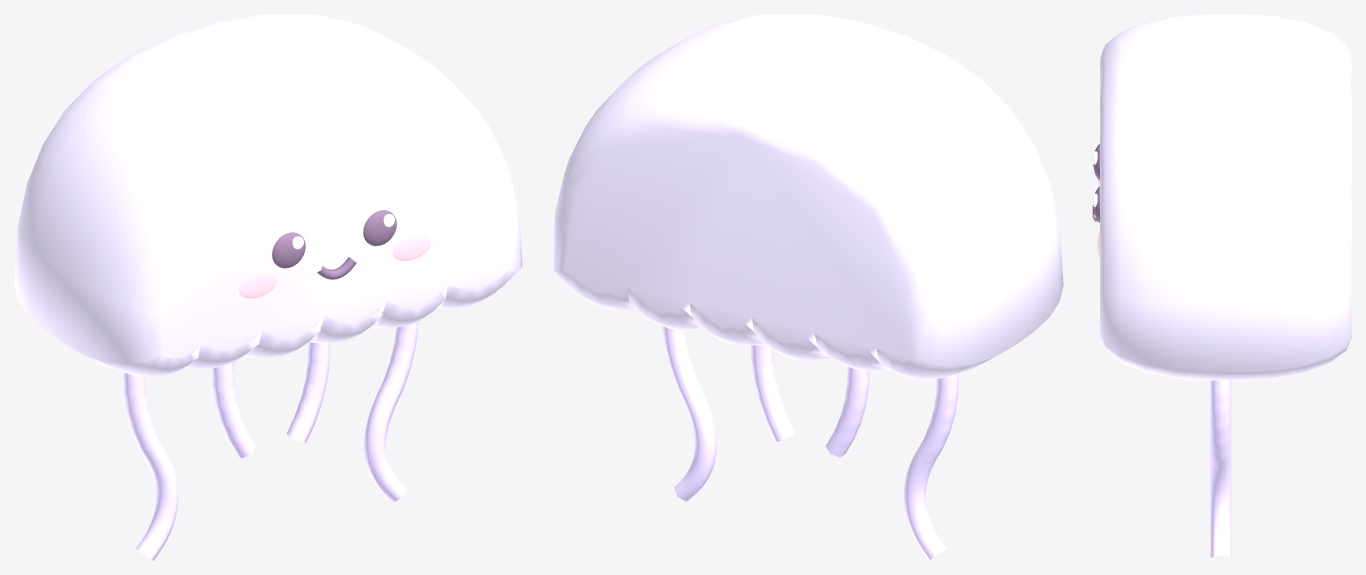
The model's file is squishy_jelly.glb.
The picture shows the model from 3 angles, left to right: view 1: azimuth 30°, elevation 25°; view 2: azimuth 150°, elevation 25°; view 3: azimuth 270°, elevation 25°; orthographic projection. The views are drawn at different scales.
Visible parts, largest first — view 1: jelly; view 2: jelly; view 3: jelly.
Boxes of the visible parts, x1=… form: jelly: x1=14, y1=14, x2=522, y2=560; jelly: x1=551, y1=14, x2=1063, y2=560; jelly: x1=1092, y1=14, x2=1351, y2=558.
Size of the model in its own units: 0.9393 by 1 by 0.5112.
